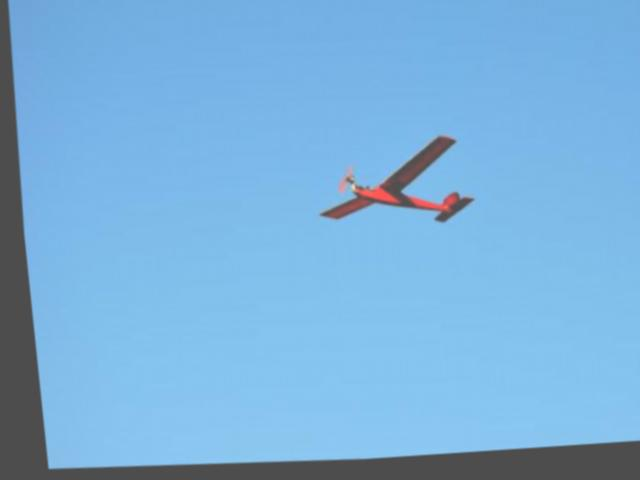iha: (309, 136, 483, 239)
